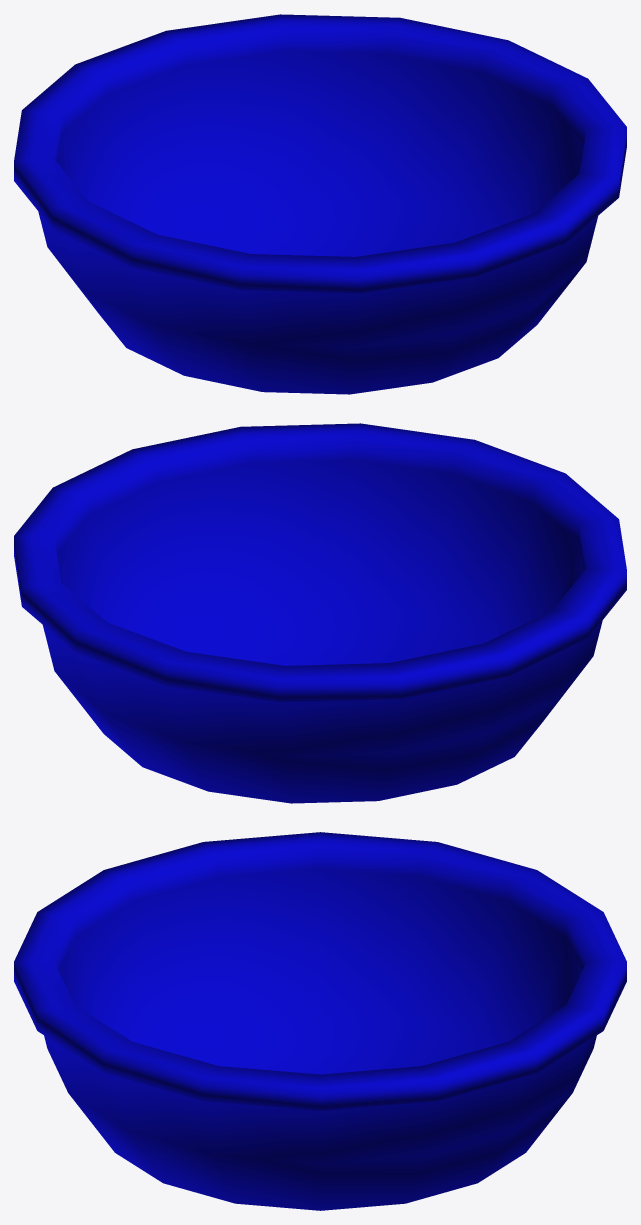
The model's file is Baskom2.fbx.
3 views of the same model, one above another, from view 1: azimuth 30°, elevation 25°; view 2: azimuth 150°, elevation 25°; view 3: azimuth 270°, elevation 25° (orthographic).
Visible parts, largest first — view 1: Baskom2; view 2: Baskom2; view 3: Baskom2.
Boxes of the visible parts, <box> form: Baskom2: <box>14,14,626,394</box>; Baskom2: <box>14,423,626,803</box>; Baskom2: <box>14,832,626,1210</box>.
Size of the model in its own units: 45.41 by 14.05 by 45.41.
